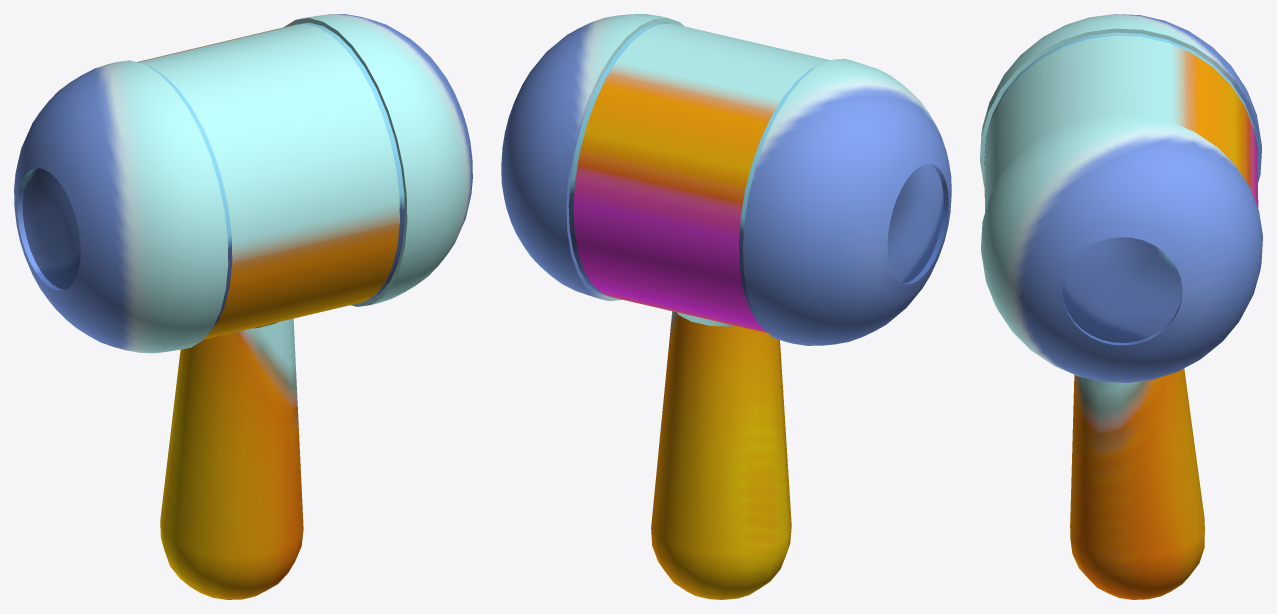
File: hammer2.fbx
3 renders of one model, left to right at view 1: azimuth 30°, elevation 25°; view 2: azimuth 150°, elevation 25°; view 3: azimuth 270°, elevation 25°, orthographic. The views are drawn at different scales.
Visible parts, largest first — view 1: Cylinder.006; view 2: Cylinder.006; view 3: Cylinder.006.
Boxes of the visible parts, bbox=[...] form: Cylinder.006: bbox=[14, 14, 472, 599]; Cylinder.006: bbox=[501, 14, 951, 599]; Cylinder.006: bbox=[980, 14, 1262, 599].
Bounding box in the file's own units: 624 × 837 × 409.
